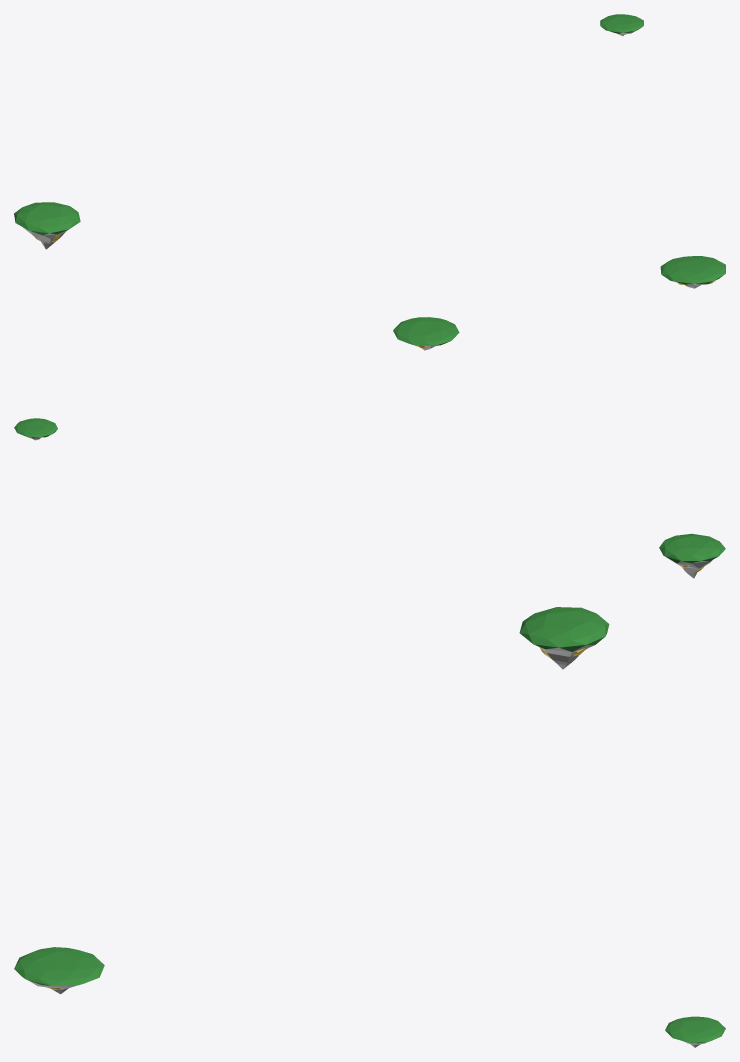
The model's file is landscape.islands.fbx.
The picture shows the model from 3 angles, top to bottom: view 1: azimuth 30°, elevation 25°; view 2: azimuth 150°, elevation 25°; view 3: azimuth 270°, elevation 25°; orthographic projection. The views are drawn at different scales.
Visible parts, largest first — view 1: Island, Island_2, Island_3; view 2: Island_2, Island, Island_3; view 3: Island, Island_2, Island_3.
Part boxes in pixels (x1,y1,x2,y2): Island: (14, 202, 80, 235); Island_2: (660, 256, 725, 284); Island_3: (600, 14, 643, 33); Island_2: (393, 317, 459, 345); Island: (659, 533, 725, 563); Island_3: (14, 418, 57, 437); Island: (519, 607, 609, 651); Island_2: (14, 947, 104, 985); Island_3: (665, 1016, 725, 1043).
Size of the model in its own units: 3948 by 313 by 2684.
